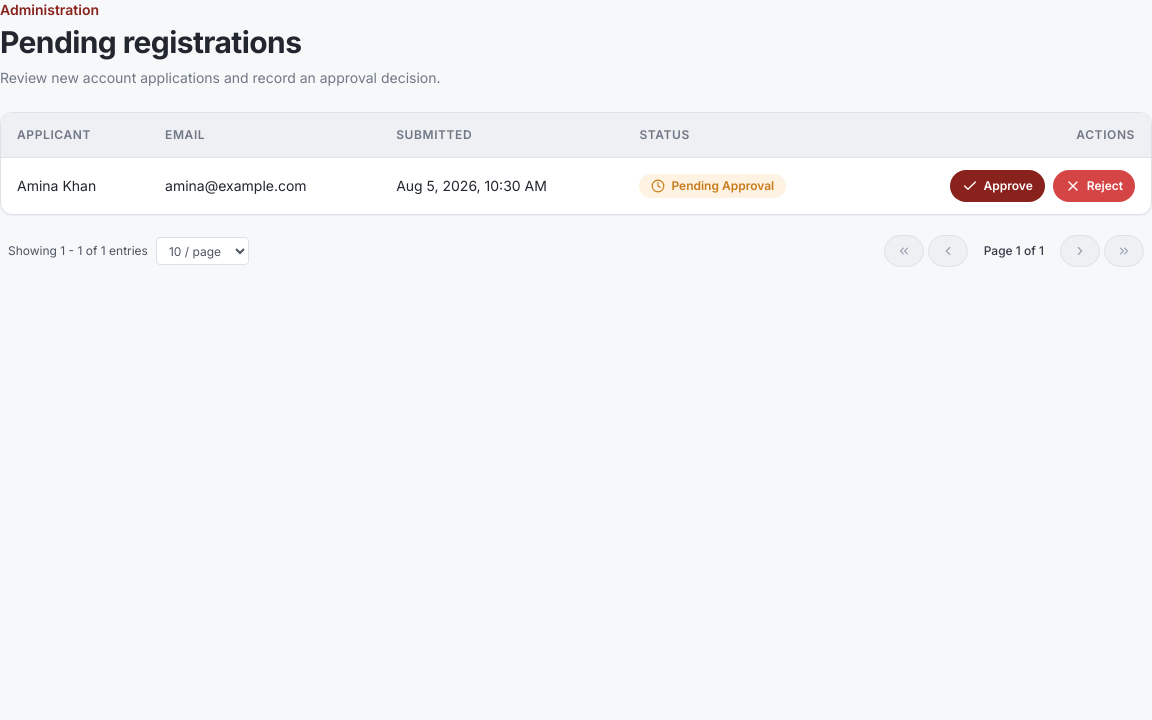
Test: RegistrationsPage › approves after confirmation and refreshes the list
The width and height of the screenshot is (1152, 720).
Click the button "Approve": (997, 186) [950, 170, 1045, 202]
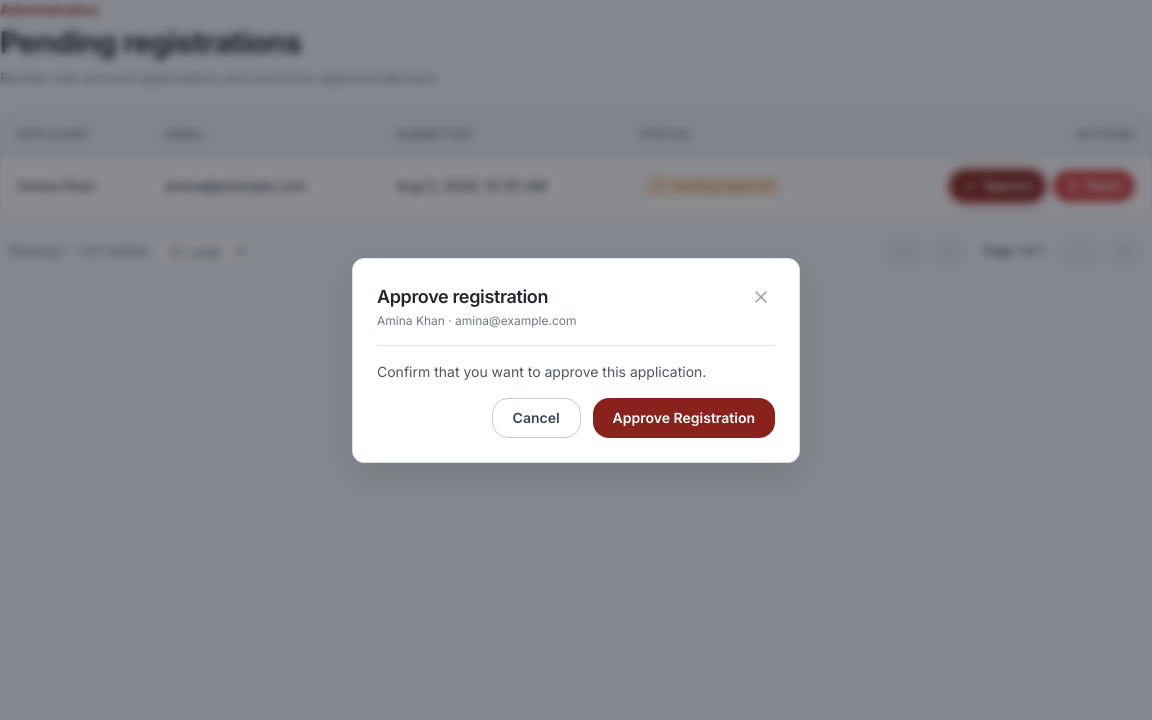
Click the button "Approve Registration": (684, 418) [593, 398, 775, 438]
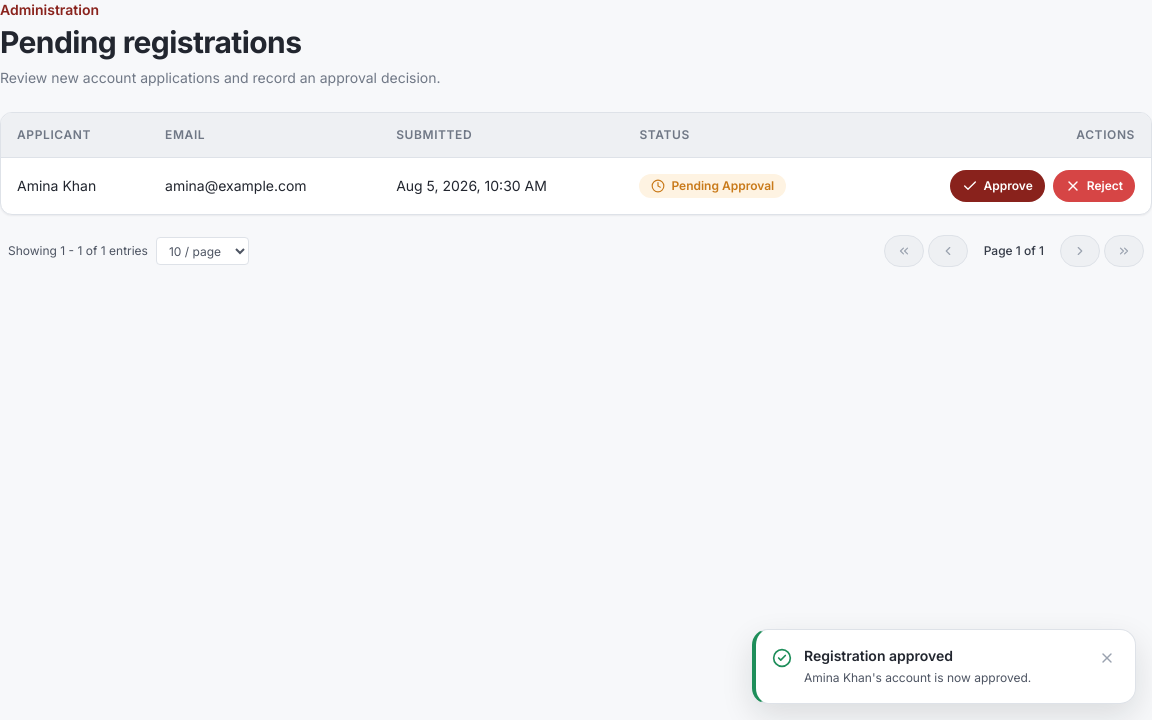
Check: the heading "Registration approved" is shown, box [804, 646, 953, 664]
